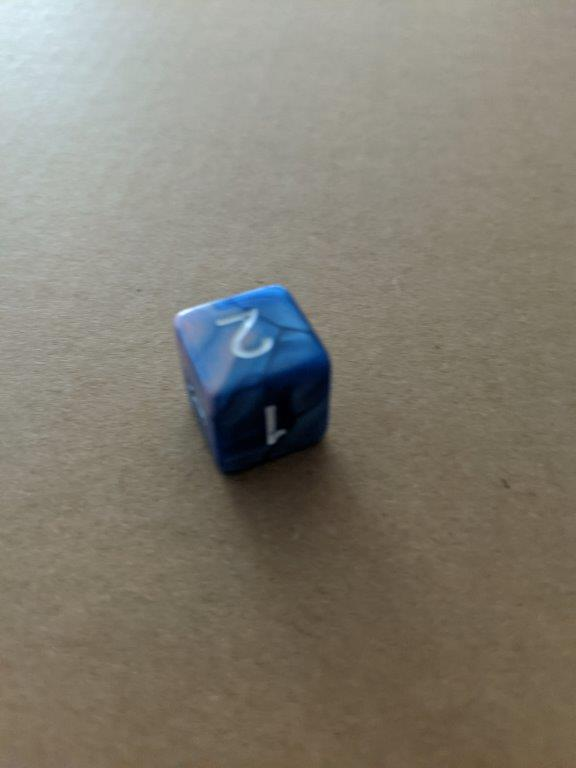d6-2: (174, 284, 332, 474)
